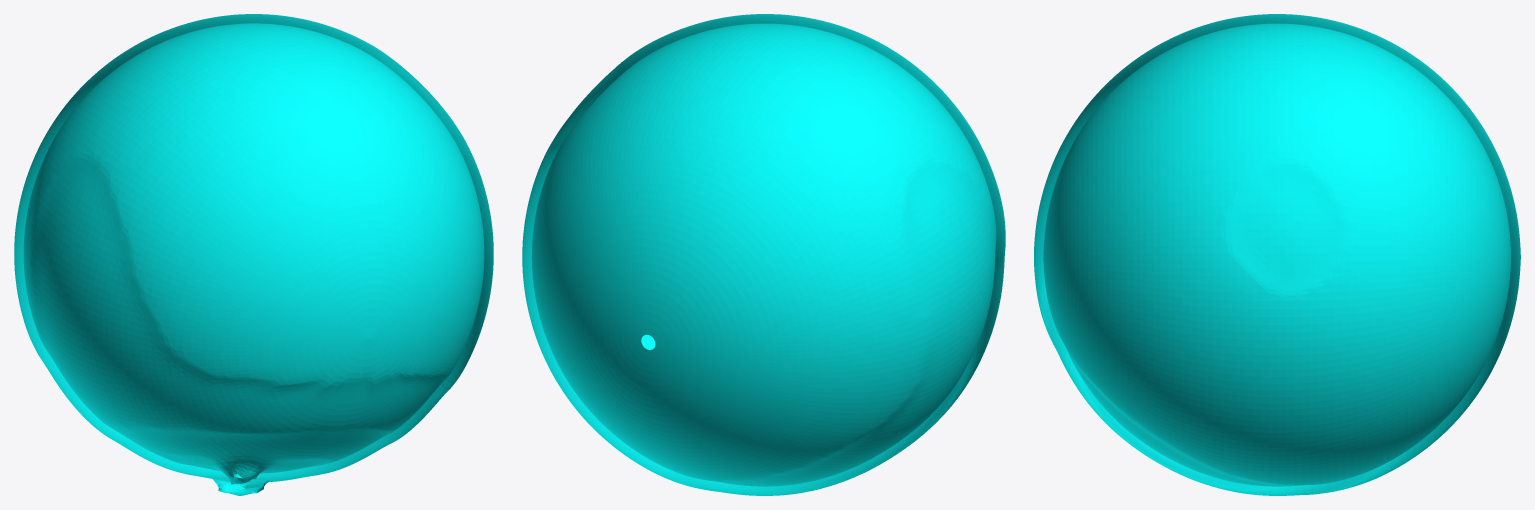
3 views of the same model, side by side, from view 1: azimuth 30°, elevation 25°; view 2: azimuth 150°, elevation 25°; view 3: azimuth 270°, elevation 25° (orthographic).
Parts seen in each view (by area): view 1: Renderer Node; view 2: Renderer Node; view 3: Renderer Node.
Boxes of the visible parts, x1,y1,x2,y2 form: Renderer Node: [14, 14, 493, 495]; Renderer Node: [522, 14, 1005, 495]; Renderer Node: [1034, 14, 1520, 495].
Size of the model in its own units: 6.77e+16 by 6.72e+16 by 6.83e+16.
